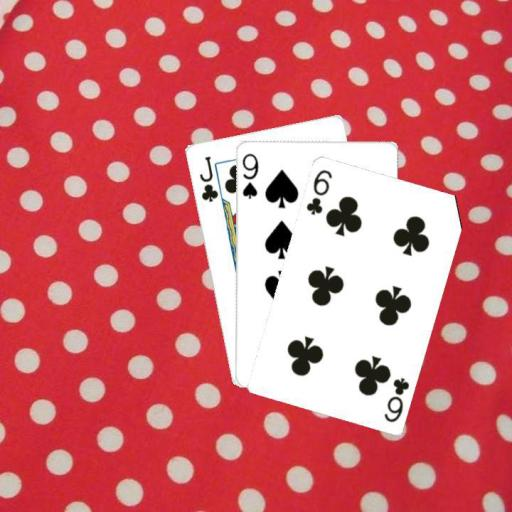6C: (303, 166, 333, 216), (381, 373, 411, 423)
9S: (238, 149, 260, 200)
JC: (196, 153, 219, 204)
